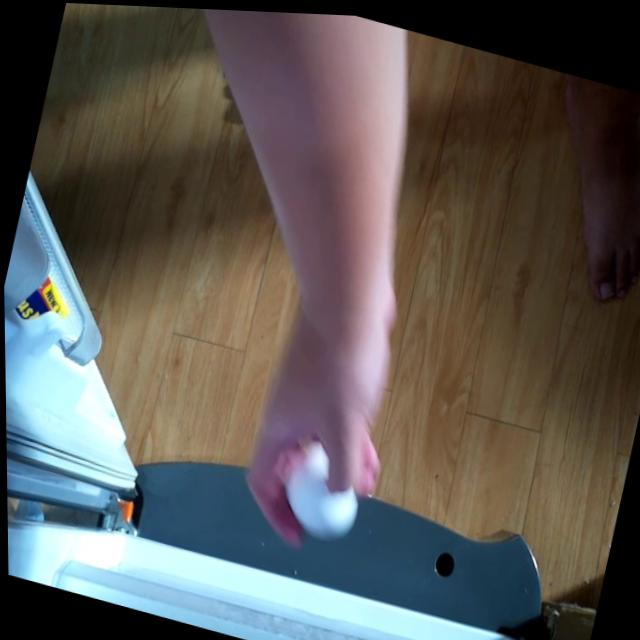egg: (270, 421, 371, 546)
